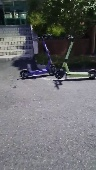beam: (18, 33, 59, 78)
gcooter: (54, 33, 96, 79)
